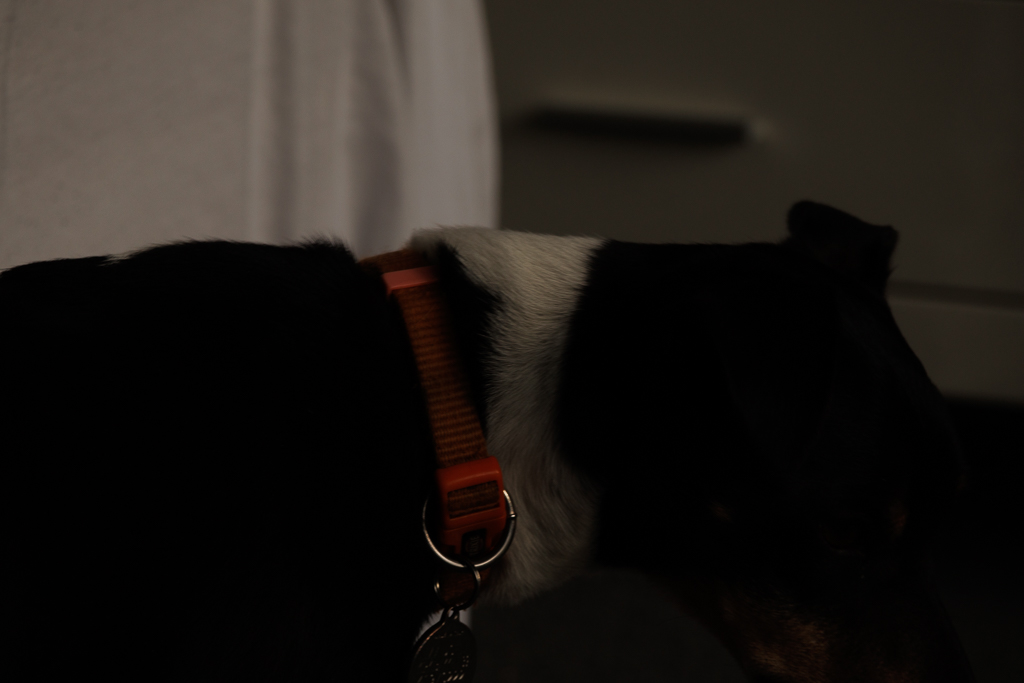Dog: (0, 183, 1024, 683)
